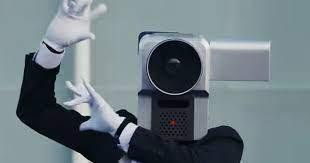no more kid: (132, 29, 275, 144)
